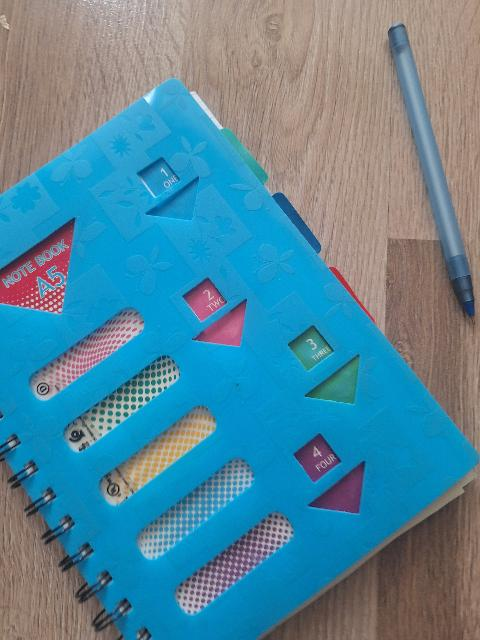writing_tool: (386, 22, 480, 328)
